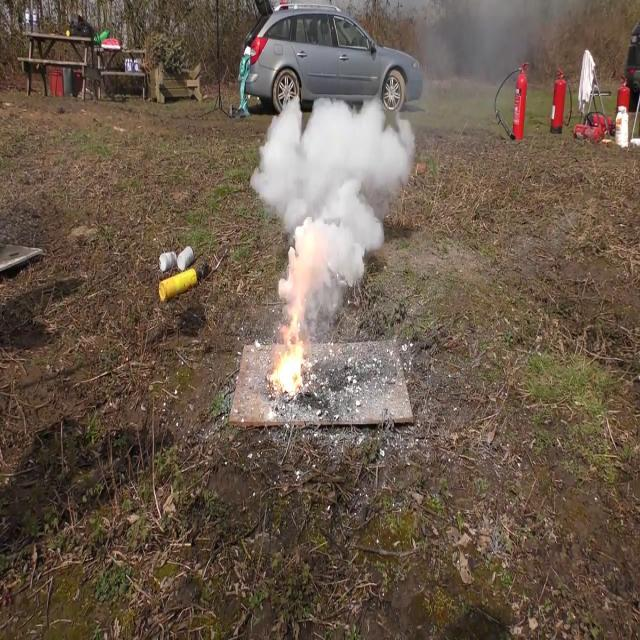Fire: (266, 220, 326, 396)
Smoke: (250, 84, 416, 256)
